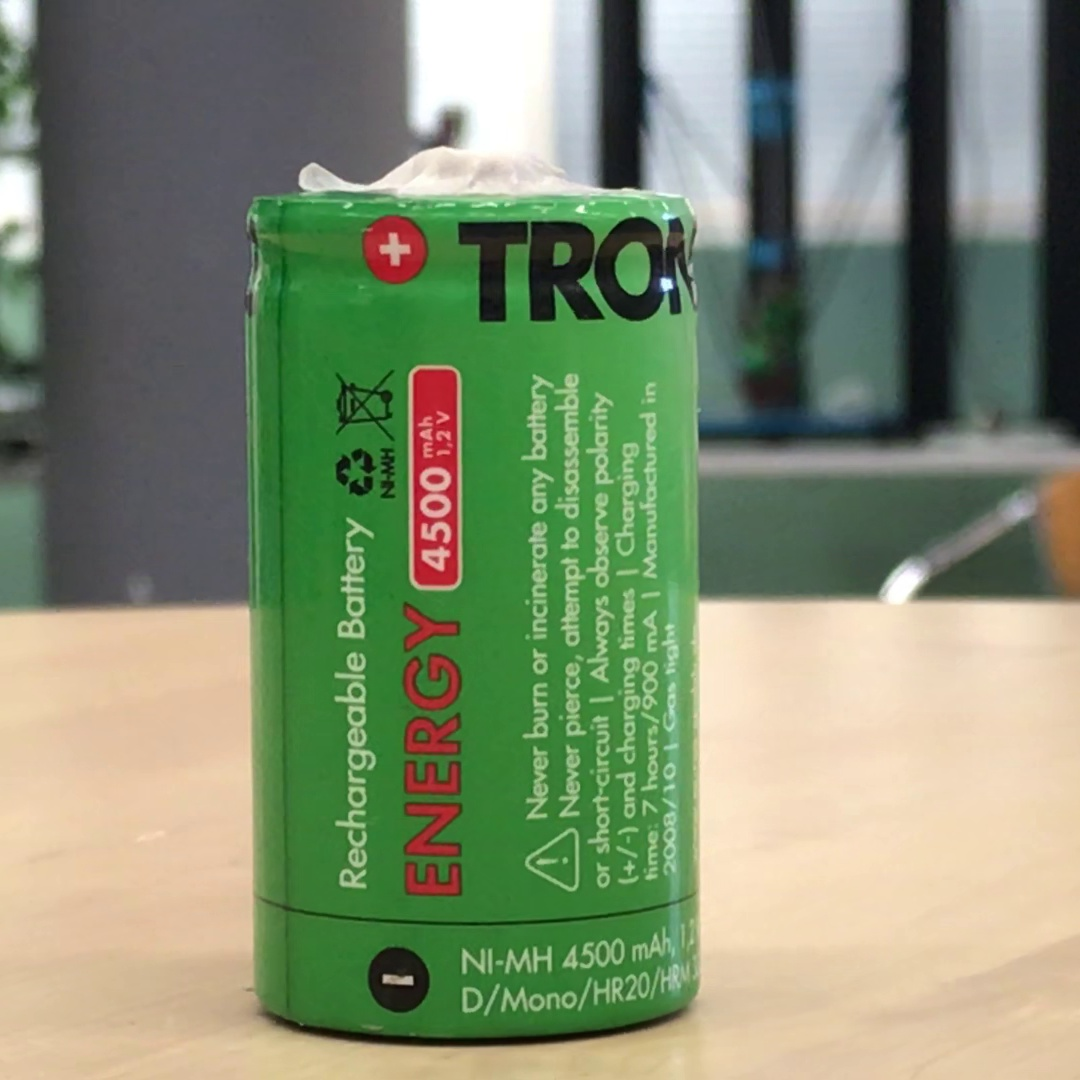keyword: (453, 939, 558, 982)
